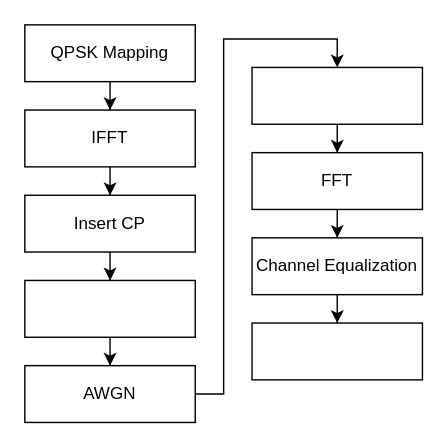
The diagram is 447 pixels wide and 447 high, and some of its shapes have lost their labels. The shapes that lost their labels are listed below. From the top down, each one's centre as x and y in pixels, then its label:
At (x=336, y=95): "Remove CP".
At (x=109, y=308): "Multipath Channel".
At (x=336, y=351): "ML Hard Decision".
